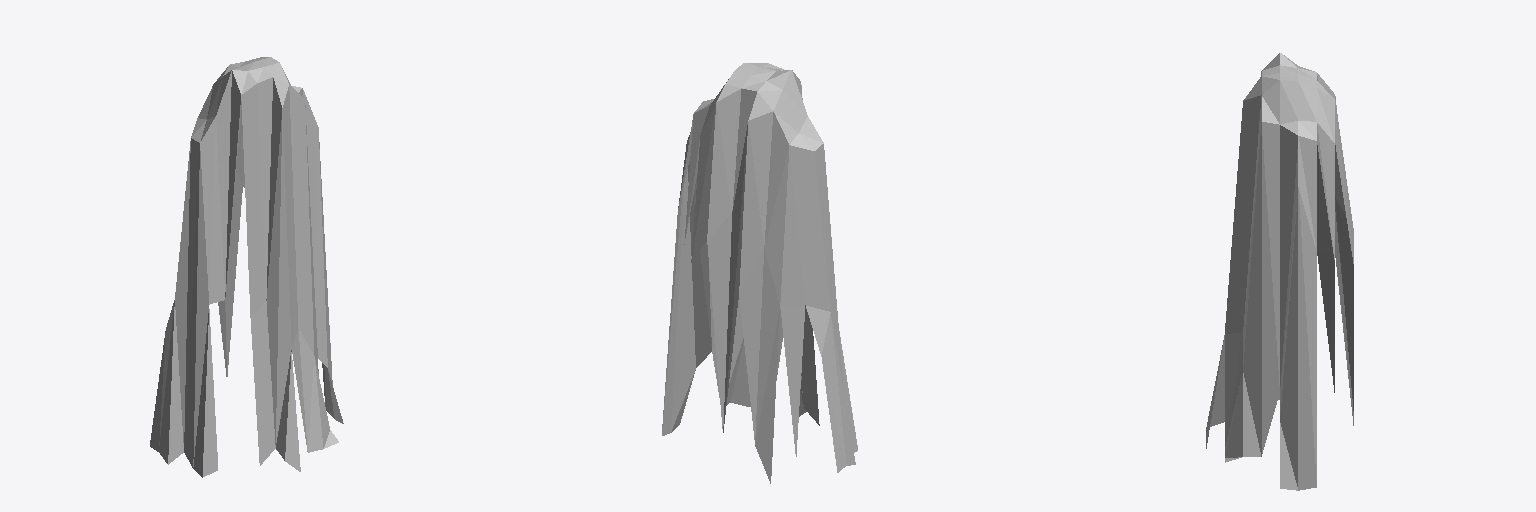
File: tree_67.obj
The picture shows the model from 3 angles: view 1: azimuth 30°, elevation 25°; view 2: azimuth 150°, elevation 25°; view 3: azimuth 270°, elevation 25°; orthographic projection.
Parts seen in each view (by area): view 1: tree_67.001; view 2: tree_67.001; view 3: tree_67.001.
Part boxes in pixels (bbox=[...]): tree_67.001: bbox=[150, 57, 343, 477]; tree_67.001: bbox=[662, 63, 857, 483]; tree_67.001: bbox=[1206, 53, 1353, 490].
Size of the model in its own units: 11 by 22.97 by 8.